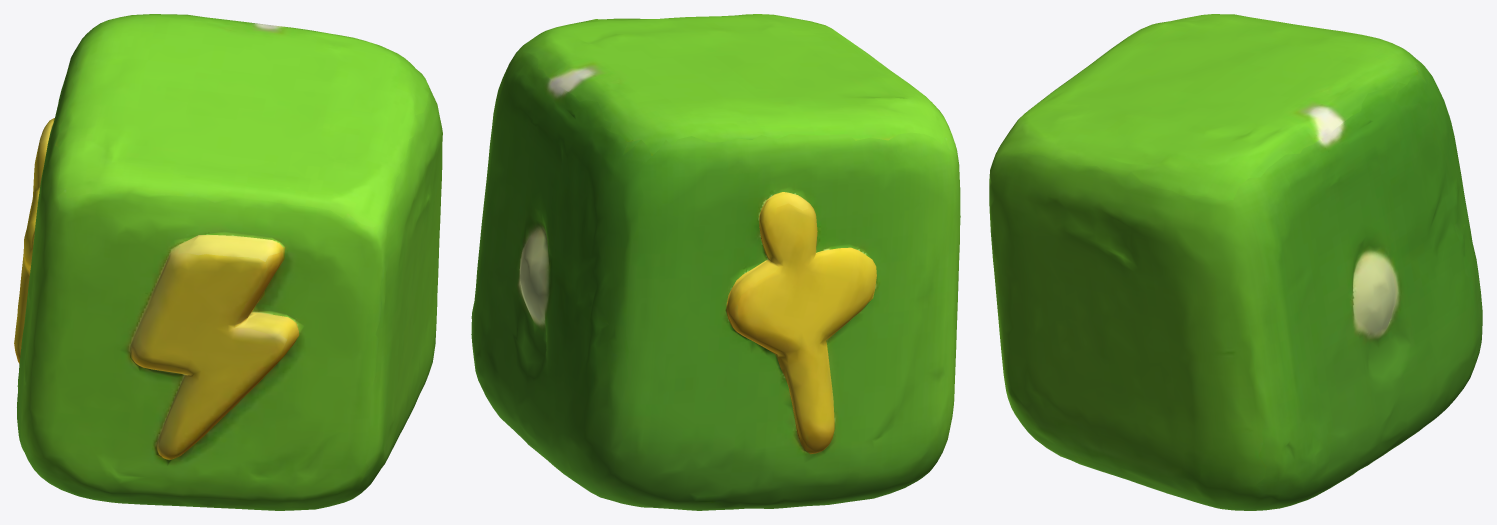
File: token-energy.glb
3 renders of one model, left to right at view 1: azimuth 30°, elevation 25°; view 2: azimuth 150°, elevation 25°; view 3: azimuth 270°, elevation 25°, orthographic. The views are drawn at different scales.
Visible parts, largest first — view 1: geometry_0; view 2: geometry_0; view 3: geometry_0.
Boxes of the visible parts, bbox=[...] form: geometry_0: bbox=[14, 14, 442, 510]; geometry_0: bbox=[471, 14, 960, 510]; geometry_0: bbox=[989, 14, 1482, 510].
Size of the model in its own units: 0.9267 by 0.8006 by 0.9392.
1 material, 1 textured.
